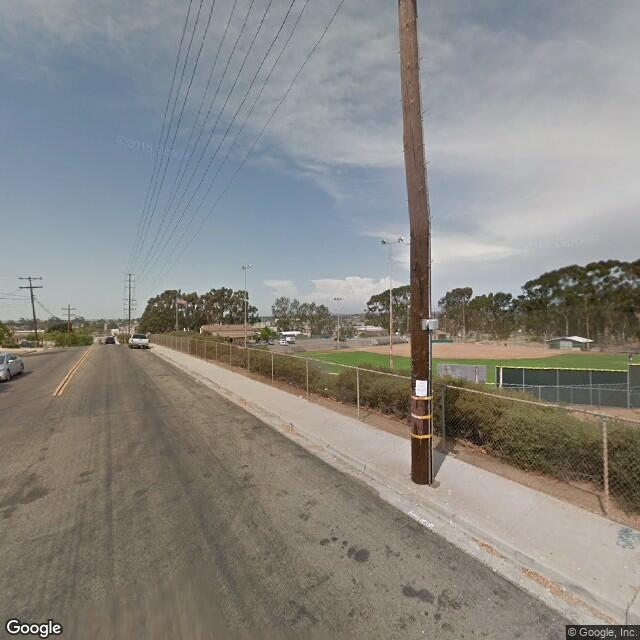litter: (322, 385, 330, 392), (296, 393, 303, 397)
